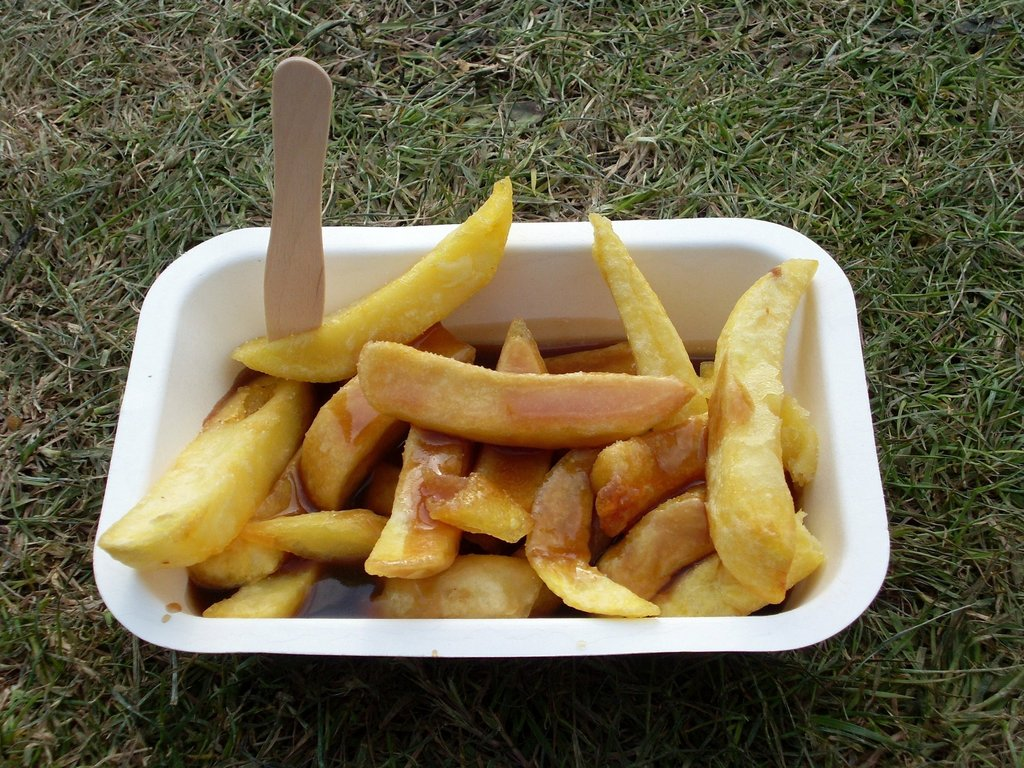French fries: (129, 194, 844, 630)
